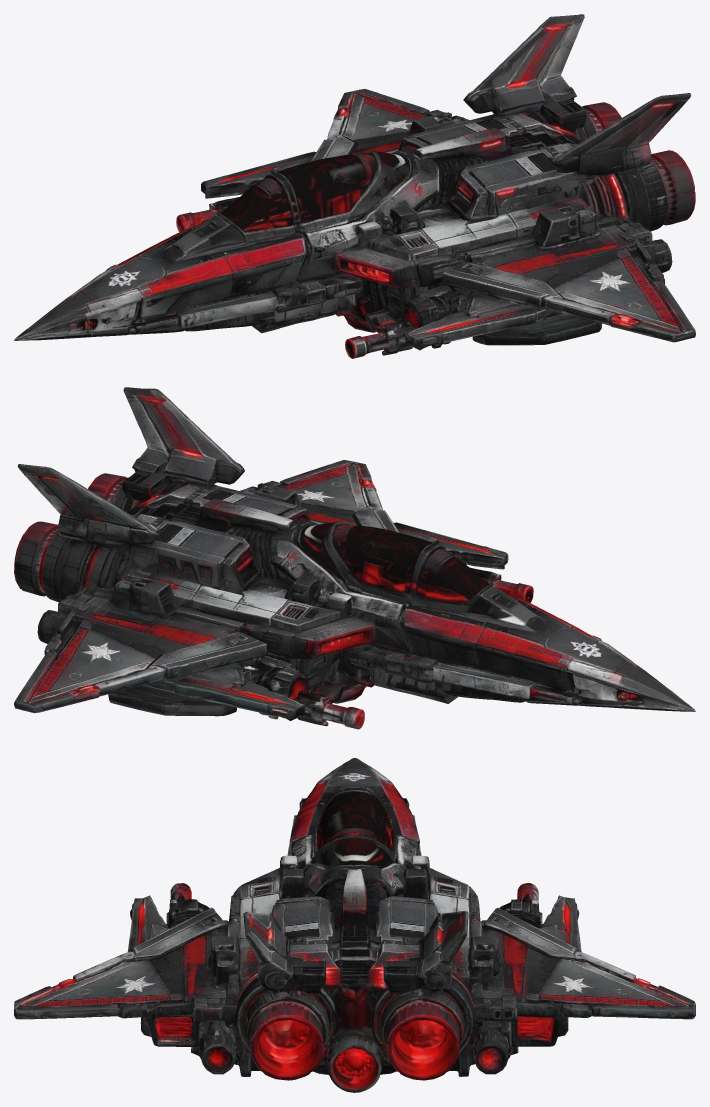
File: enemy.glb
The picture shows the model from 3 angles, top to bottom: view 1: azimuth 30°, elevation 25°; view 2: azimuth 150°, elevation 25°; view 3: azimuth 270°, elevation 25°; orthographic projection. The views are drawn at different scales.
Parts seen in each view (by area): view 1: mesh_node; view 2: mesh_node; view 3: mesh_node.
Boxes of the visible parts, bbox=[...] form: mesh_node: bbox=[14, 14, 695, 358]; mesh_node: bbox=[14, 387, 695, 729]; mesh_node: bbox=[14, 758, 695, 1092].
Size of the model in its own units: 1.9 by 0.5742 by 1.73.
1 material, 1 textured.
